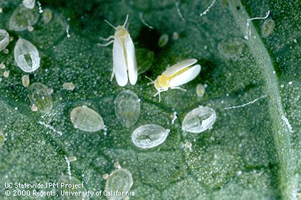Tobacco Whitefly: (101, 15, 145, 88), (155, 50, 202, 101)
